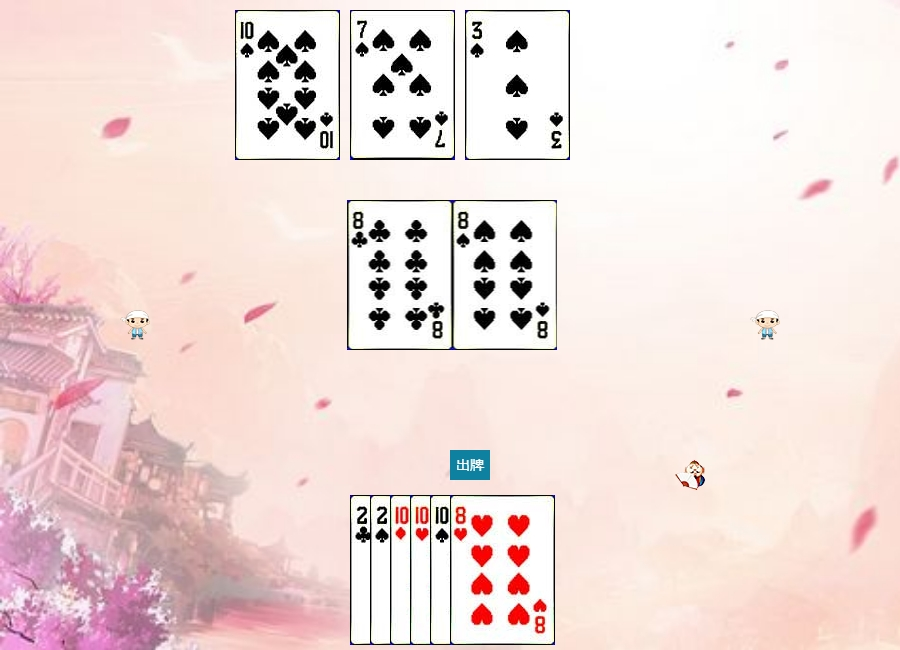10~1: (390, 495, 495, 645)
10~3: (410, 495, 515, 645)
10~4: (235, 10, 340, 160), (430, 495, 535, 645)
15~2: (350, 495, 455, 645)
15~4: (370, 495, 475, 645)
3~4: (465, 10, 570, 160)
7~4: (350, 10, 455, 160)
8~2: (348, 200, 453, 350)
8~3: (450, 495, 555, 645)
8~4: (453, 200, 558, 350)
